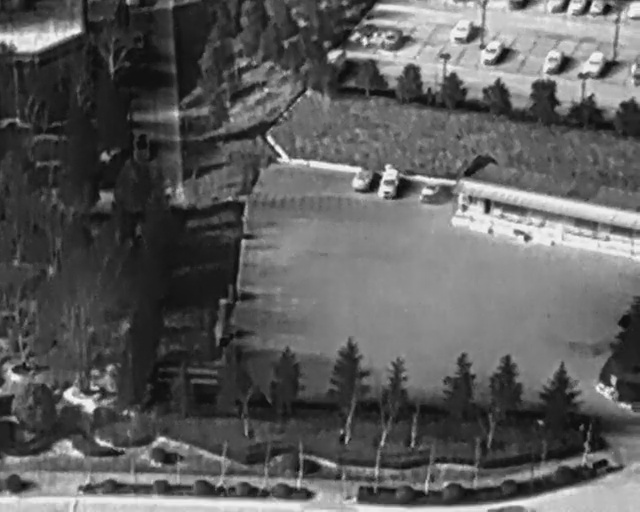Car: (374, 164, 404, 203), (476, 36, 507, 69), (582, 47, 609, 79), (352, 20, 382, 47), (541, 46, 567, 77), (450, 16, 477, 45), (352, 165, 371, 192), (134, 131, 150, 162), (547, 0, 563, 12), (571, 0, 584, 14)
OtherVehicle: (382, 27, 403, 50), (420, 182, 439, 203)
